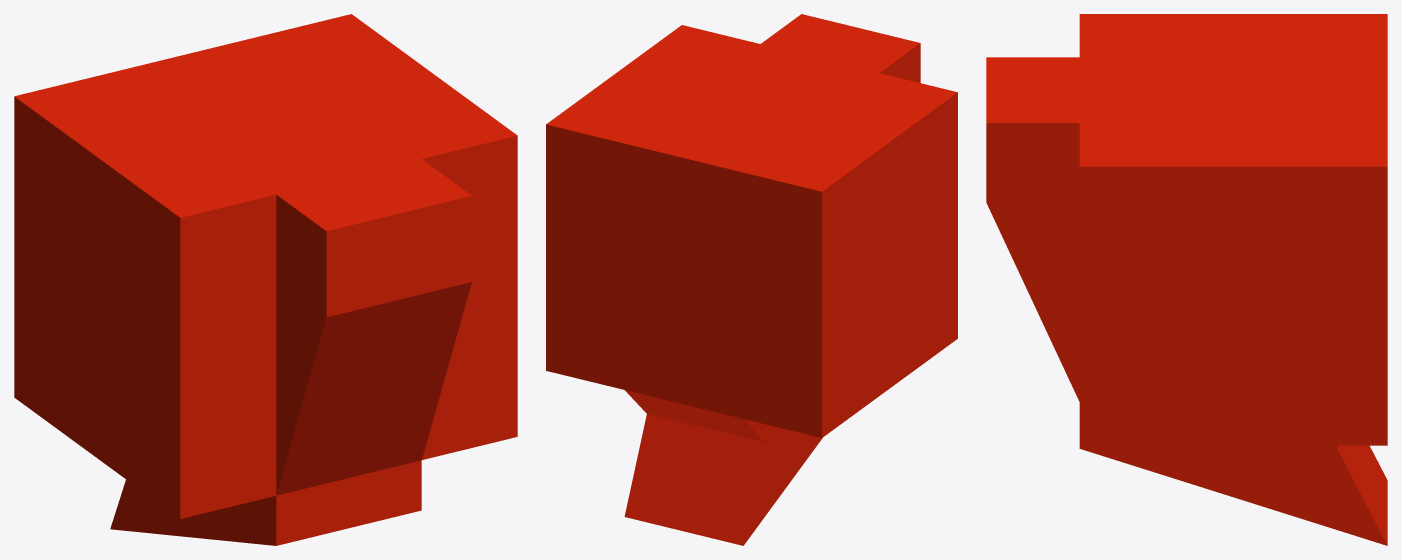
Rendered from enemy.glb.
3 renders of one model, left to right at view 1: azimuth 30°, elevation 25°; view 2: azimuth 150°, elevation 25°; view 3: azimuth 270°, elevation 25°, orthographic. The views are drawn at different scales.
Parts seen in each view (by area): view 1: Enemy; view 2: Enemy; view 3: Enemy.
Part boxes in pixels (left/top/right/bottom): Enemy: left=14, top=14, right=517, bottom=545; Enemy: left=546, top=14, right=957, bottom=545; Enemy: left=986, top=14, right=1387, bottom=545.
Bounding box in the file's own units: 2.34 × 3.03 × 2.61.
